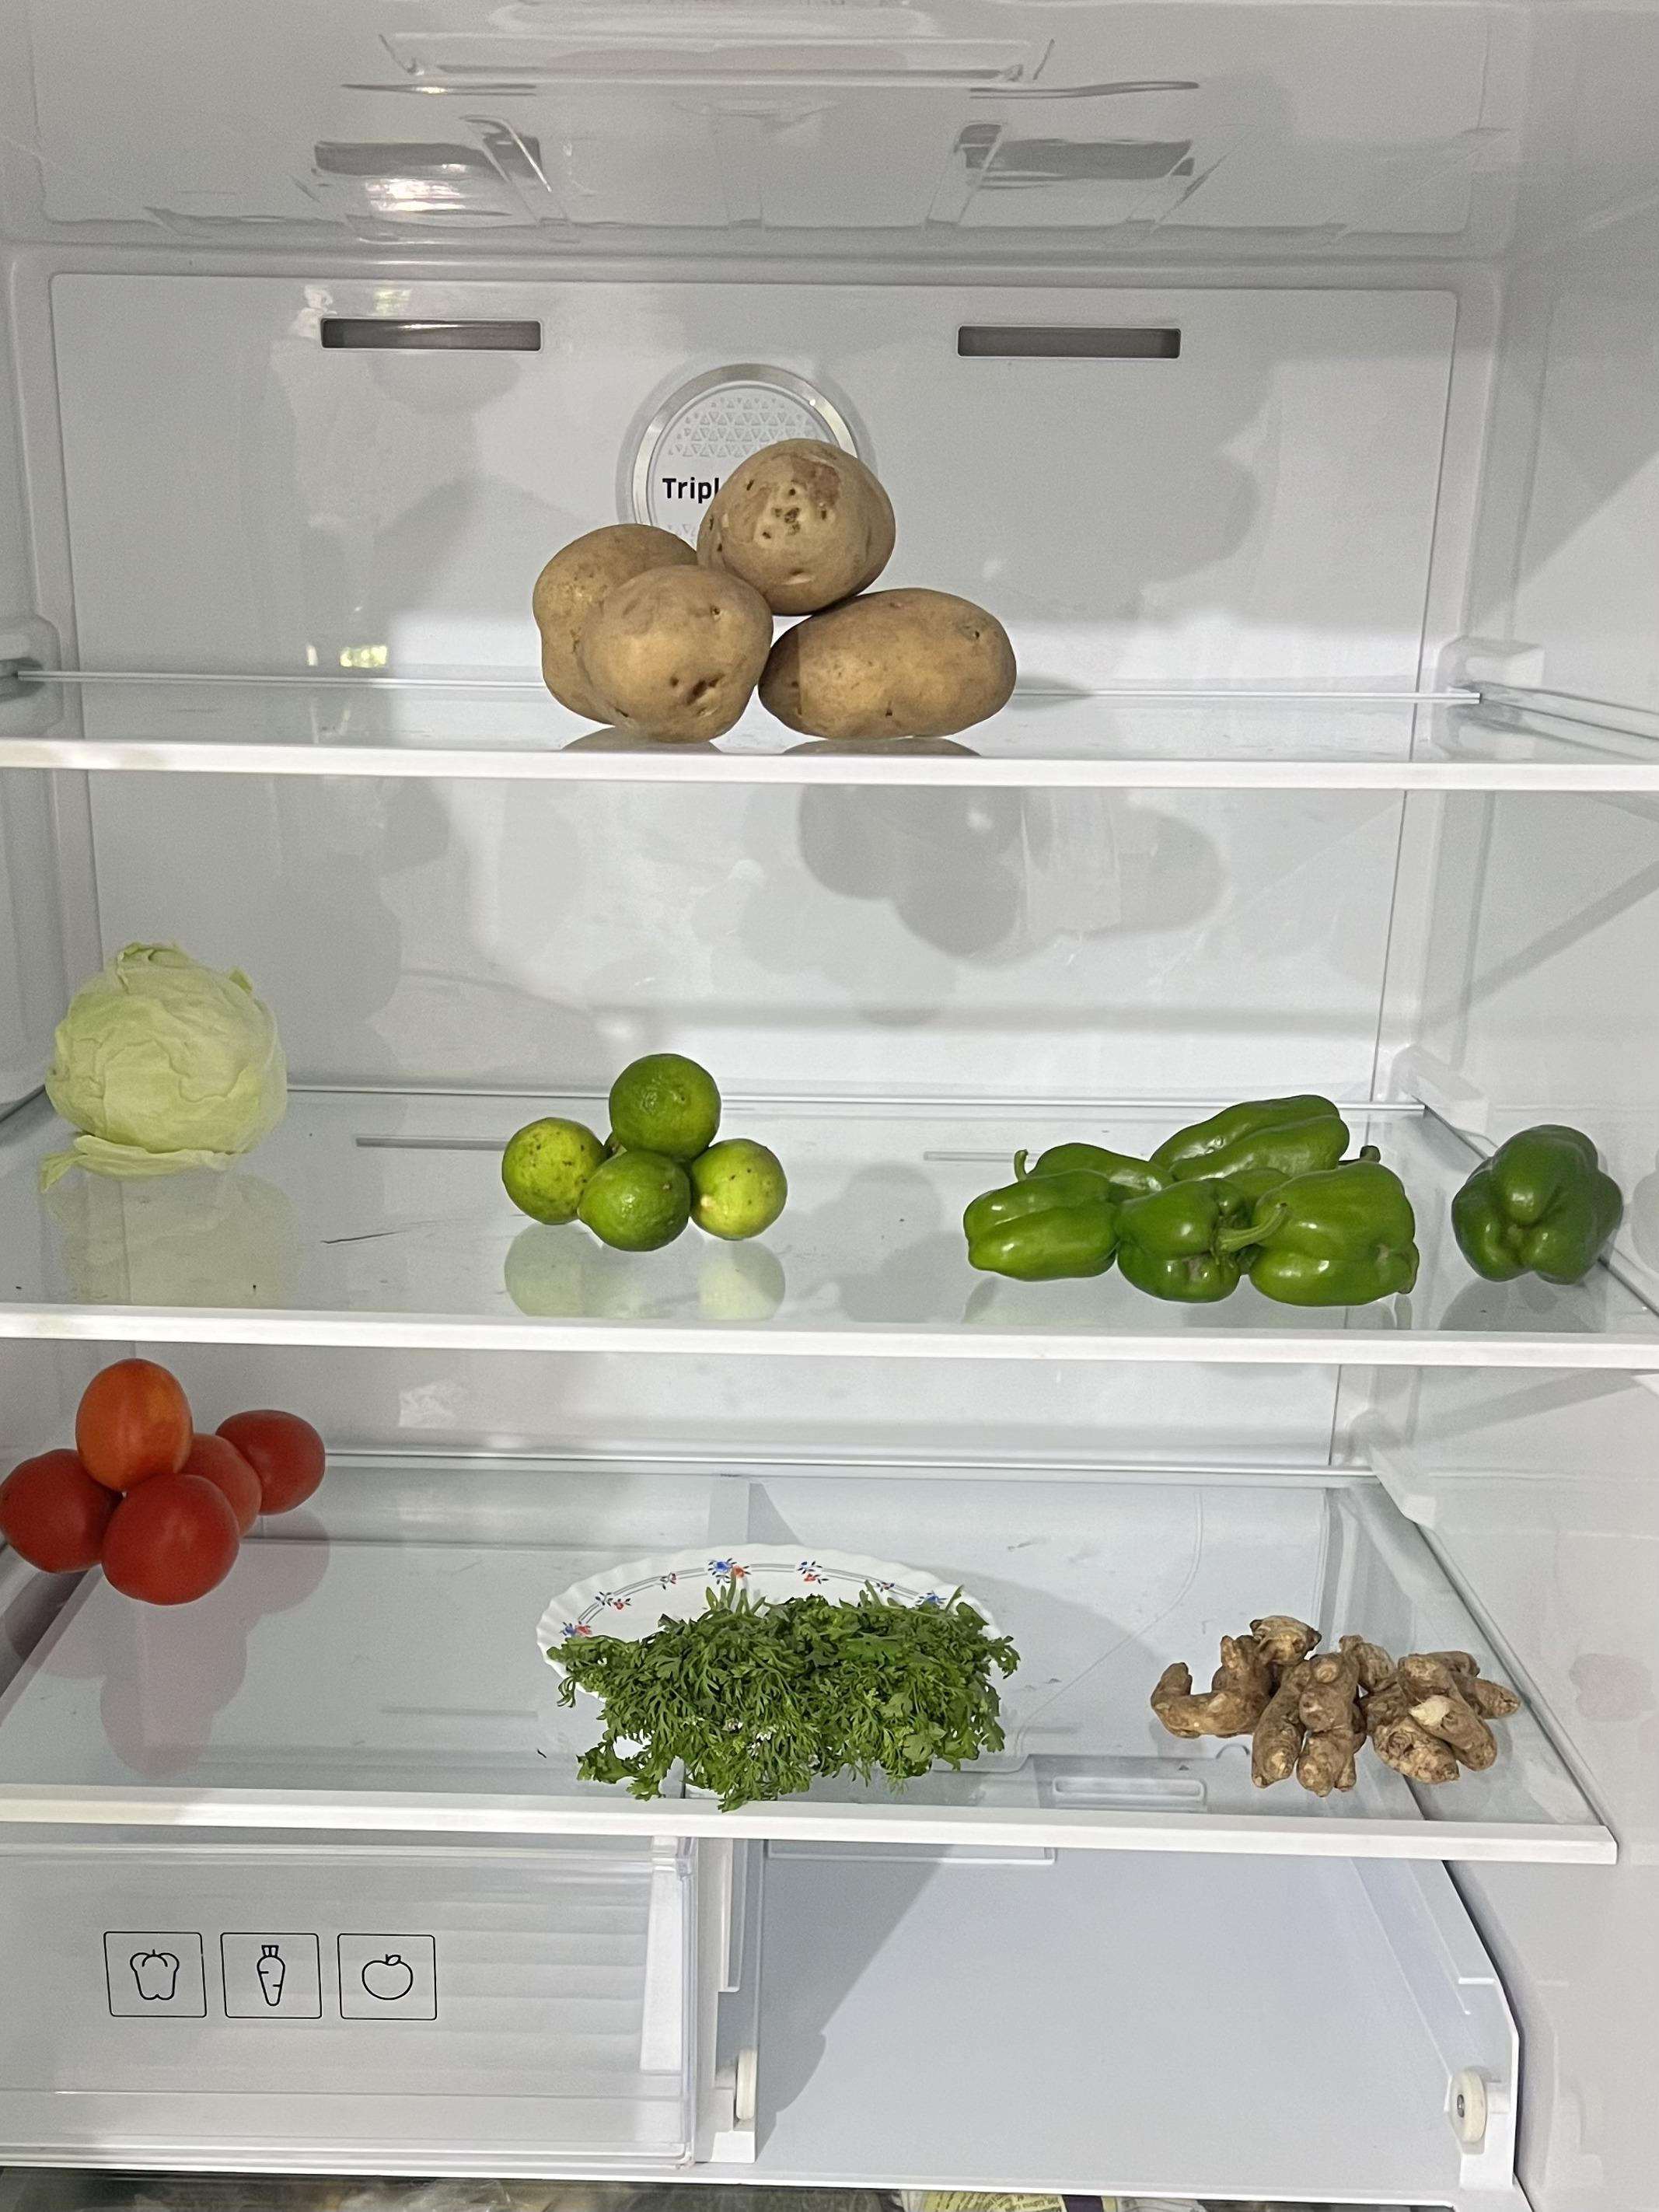cabbage: (58, 940, 288, 1173)
capsicum: (957, 1089, 1417, 1307), (1455, 1126, 1631, 1285)
coriander: (566, 1576, 1025, 1801)
ginger: (1152, 1611, 1525, 1788)
lemon: (507, 1051, 786, 1252)
potato: (538, 436, 1014, 744)
tomato: (26, 1358, 326, 1607)
